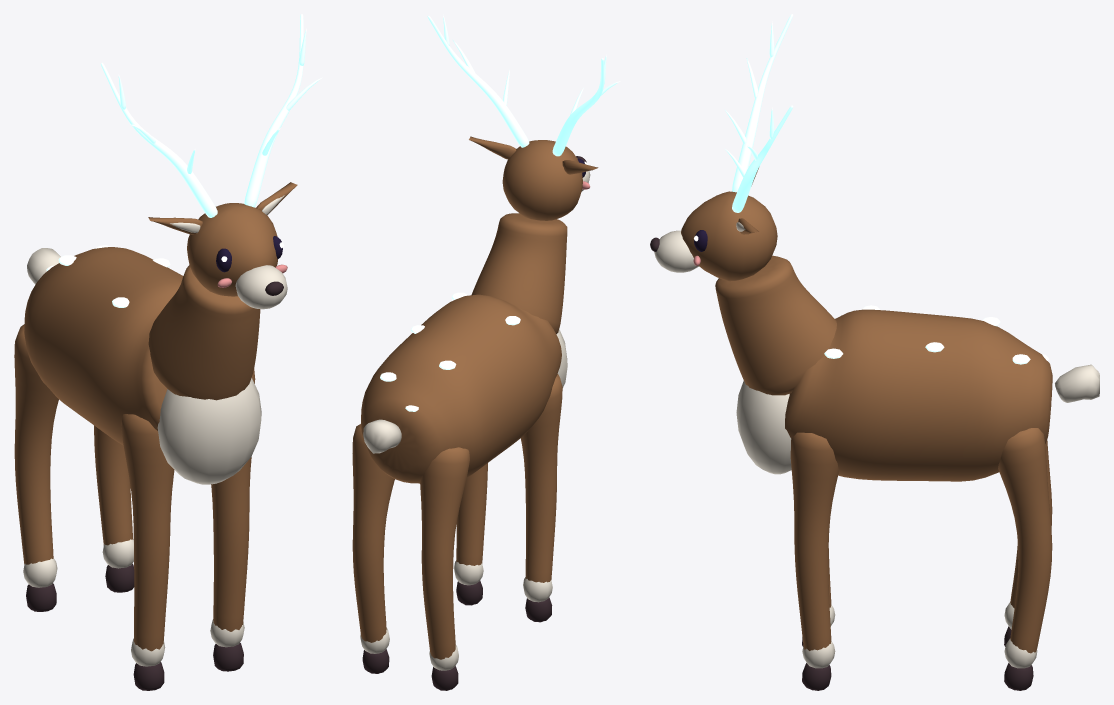
File: stag.glb
3 views of the same model, side by side, from view 1: azimuth 30°, elevation 25°; view 2: azimuth 150°, elevation 25°; view 3: azimuth 270°, elevation 25° (orthographic). The views are drawn at different scales.
Parts seen in each view (by area): view 1: stag:body.mesh, stag:head.mesh, stag:armL.mesh, stag:legL.mesh, stag:armR.mesh, stag:legR.mesh; view 2: stag:body.mesh, stag:head.mesh, stag:legL.mesh, stag:legR.mesh, stag:armL.mesh, stag:armR.mesh; view 3: stag:body.mesh, stag:head.mesh, stag:legR.mesh, stag:armR.mesh, stag:legL.mesh.
Boxes of the visible parts, x1,y1,x2,y2 form: stag:body.mesh: (24,245,261,484); stag:head.mesh: (101,14,322,309); stag:armL.mesh: (121,414,174,690); stag:legL.mesh: (14,324,58,611); stag:armR.mesh: (210,457,251,671); stag:legR.mesh: (94,425,134,592); stag:body.mesh: (361,213,567,483); stag:head.mesh: (427,14,620,220); stag:legL.mesh: (420,447,469,690); stag:legR.mesh: (352,424,394,673); stag:armL.mesh: (520,374,562,622); stag:armR.mesh: (454,463,487,605); stag:body.mesh: (715,255,1099,481); stag:head.mesh: (650,14,793,281); stag:legR.mesh: (998,428,1052,690); stag:armR.mesh: (790,432,838,690); stag:legL.mesh: (1004,439,1052,646).
Size of the model in its own units: 0.5849 by 1.8 by 1.2.
